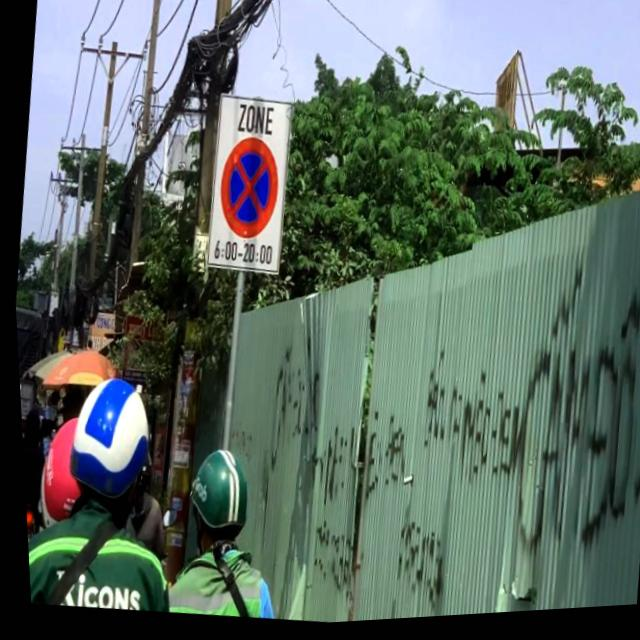Cam dung xe va do xe: (210, 135, 283, 246)
